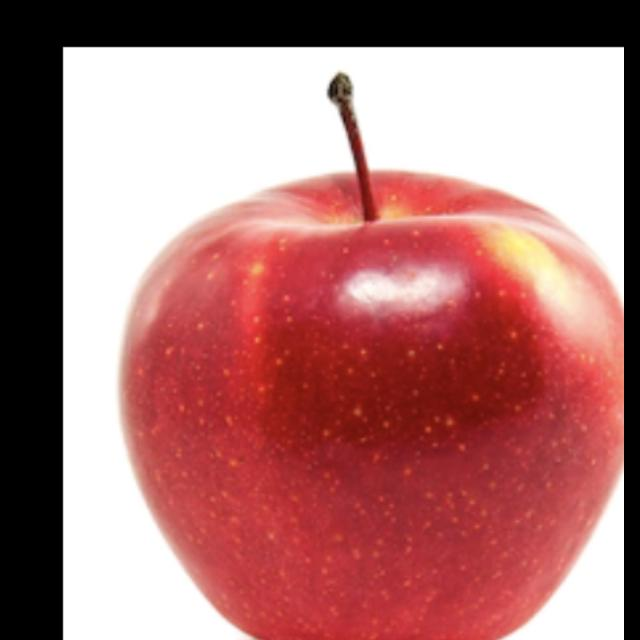Apel Segar: (118, 160, 625, 640)
